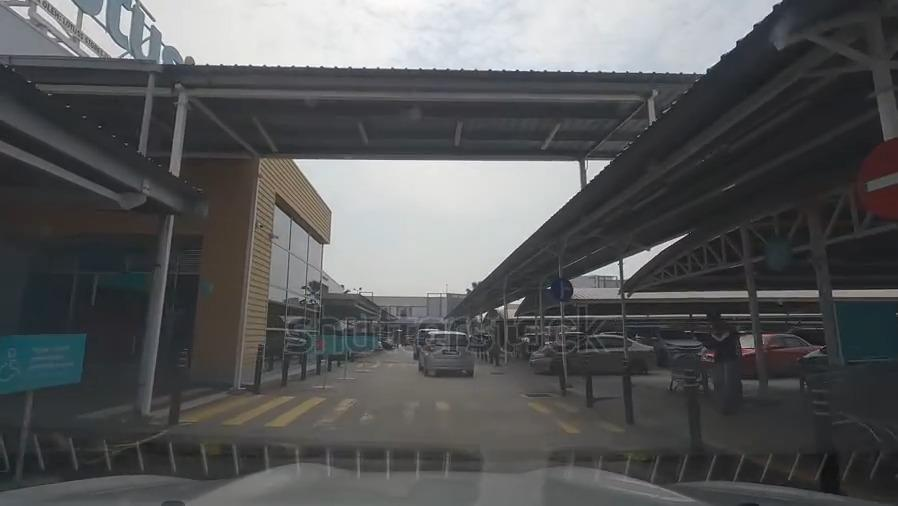car: (698, 330, 819, 374), (530, 334, 657, 374), (633, 322, 700, 362), (417, 331, 475, 377), (799, 344, 829, 374), (415, 327, 438, 357)
manhole: (525, 389, 551, 403), (489, 367, 503, 379)
pedestrian: (170, 395, 620, 423), (332, 360, 424, 372)
person: (703, 311, 746, 413)
